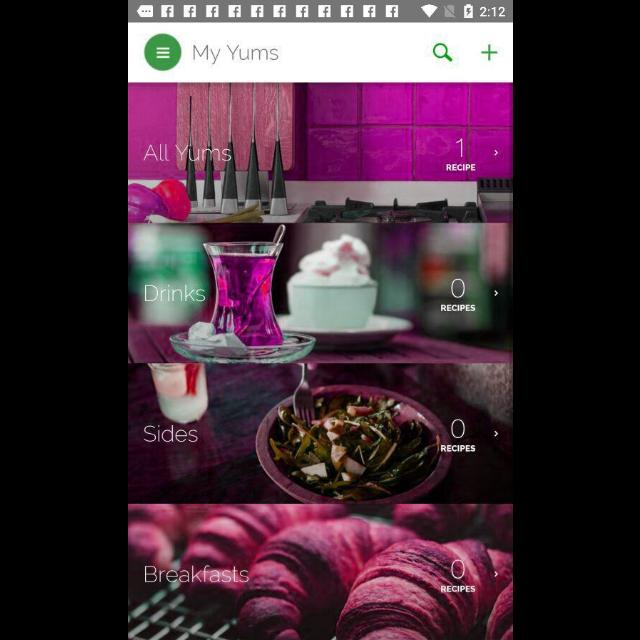icon: (143, 34, 181, 72), (432, 44, 452, 62), (480, 44, 498, 61), (484, 284, 500, 302), (485, 144, 499, 162), (485, 424, 499, 442), (485, 565, 499, 583)
image: (128, 222, 512, 364), (128, 364, 512, 504), (128, 84, 512, 222), (128, 504, 512, 640)
text: (145, 565, 249, 583), (192, 45, 278, 65), (143, 144, 231, 162), (144, 424, 198, 442), (144, 286, 204, 302), (450, 278, 464, 300), (450, 559, 464, 579), (440, 444, 474, 452), (441, 304, 475, 312), (450, 419, 464, 438), (445, 164, 475, 172), (439, 586, 475, 592), (454, 138, 462, 158)
toolbar: (128, 24, 512, 82)
uppertaskbar: (128, 1, 512, 23)
